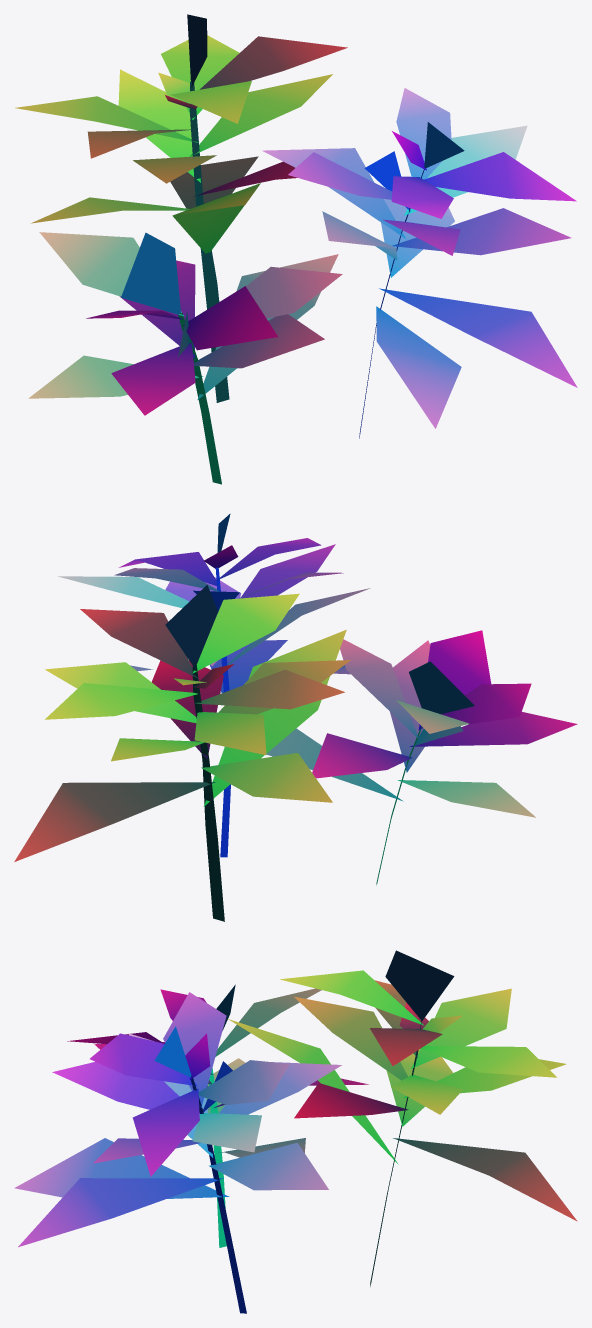
The model's file is xefmcgrqx_VarF_LOD2.fbx.
The picture shows the model from 3 angles, top to bottom: view 1: azimuth 30°, elevation 25°; view 2: azimuth 150°, elevation 25°; view 3: azimuth 270°, elevation 25°; orthographic projection. The views are drawn at different scales.
Visible parts, largest first — view 1: _5fim_VarF_LOD5; view 2: _5fim_VarF_LOD5; view 3: _5fim_VarF_LOD5.
Part boxes in pixels (bbox=[...]): _5fim_VarF_LOD5: bbox=[15, 14, 577, 484]; _5fim_VarF_LOD5: bbox=[14, 513, 577, 921]; _5fim_VarF_LOD5: bbox=[14, 950, 577, 1313].
Size of the model in its own units: 58.33 by 40.93 by 62.56.
